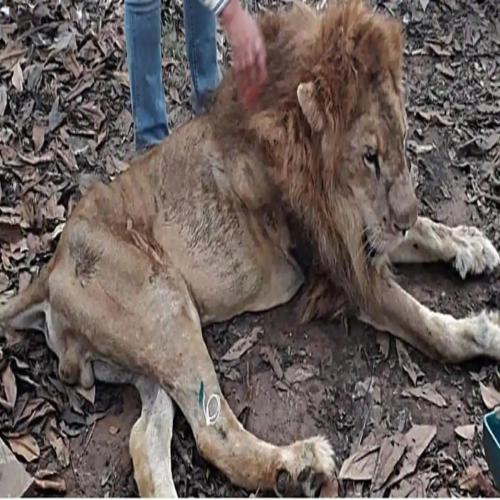lion-endangered: (0, 7, 499, 494)
